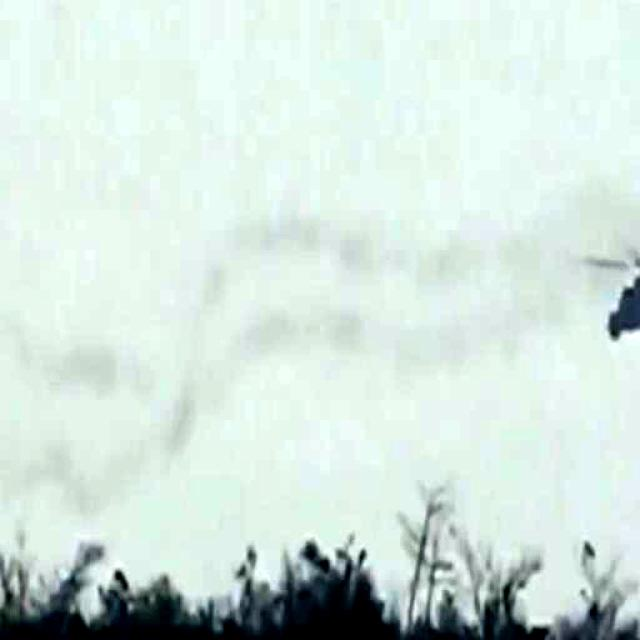drone: (596, 222, 640, 381)
